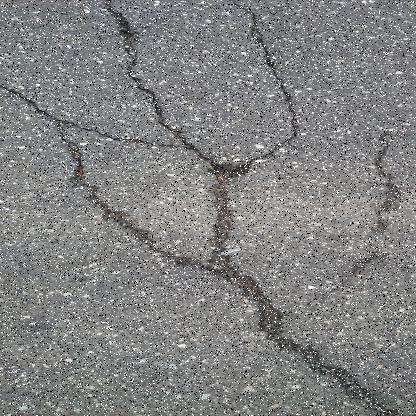Cracks: (0, 0, 303, 269), (210, 265, 413, 415)
